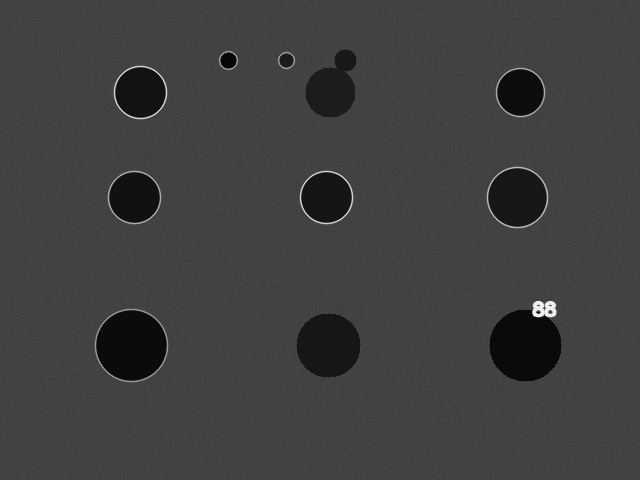hole: (95, 309, 167, 381), (489, 309, 561, 381), (296, 313, 360, 377), (487, 167, 547, 227), (114, 66, 166, 118), (108, 171, 160, 223), (300, 171, 352, 223), (305, 67, 355, 117), (496, 68, 544, 116), (334, 49, 356, 71), (219, 51, 237, 69), (278, 52, 294, 68)
